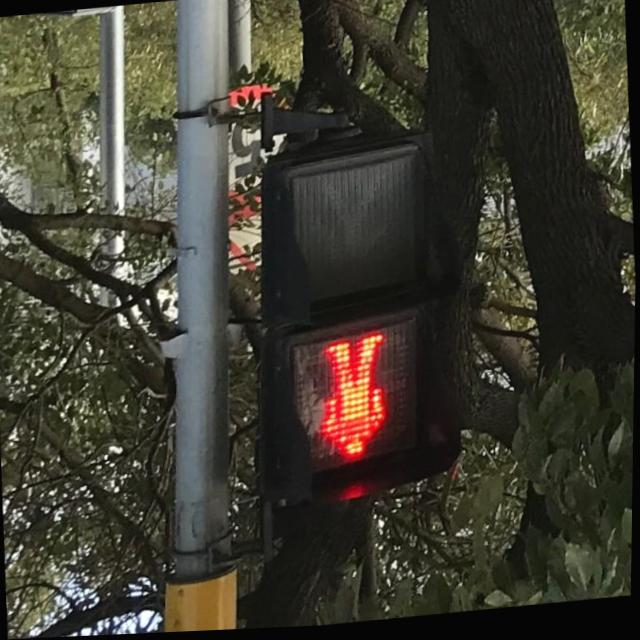red_light: (317, 335, 398, 469)
